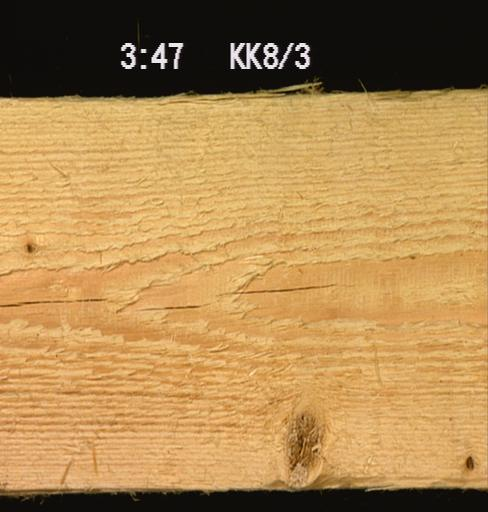dry_knot: (460, 451, 477, 470)
small_knot: (22, 238, 37, 256)
sound_knot: (274, 405, 325, 481)
split: (62, 84, 336, 101), (212, 284, 335, 296), (0, 296, 109, 309), (137, 297, 211, 311)
wave: (255, 476, 486, 492)
